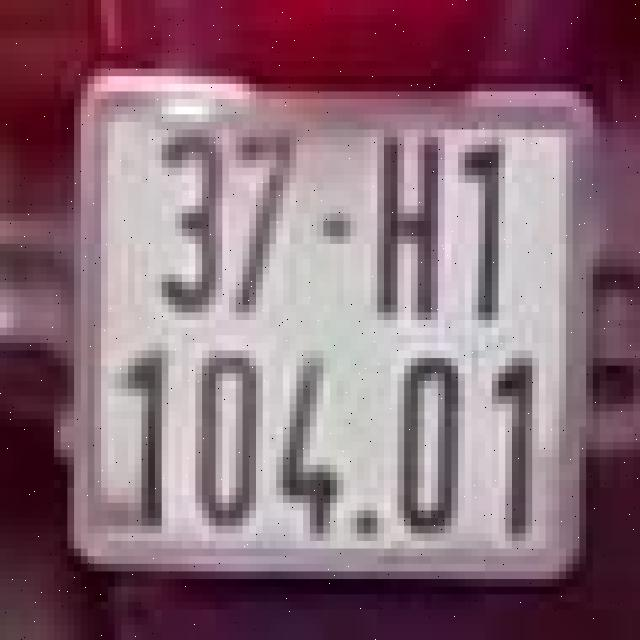0: (394, 343, 475, 556), (192, 328, 266, 541)
1: (448, 118, 515, 332), (482, 335, 542, 541), (118, 343, 178, 541)
3: (142, 122, 229, 320)
4: (273, 343, 354, 541)
7: (232, 122, 314, 335)
H: (357, 126, 451, 324)
